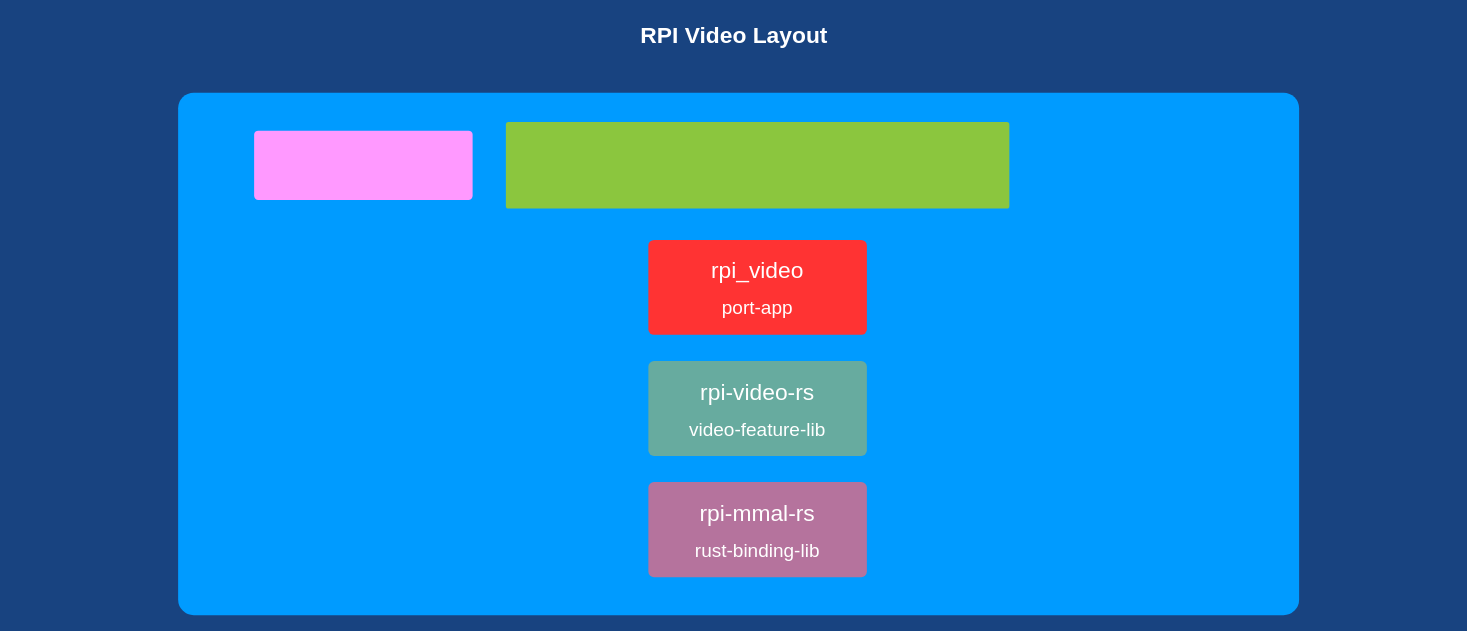
The diagram is 1467 pixels wide and 631 high, and some of its shapes have lost their labels. Each missing label, with the box of its shape:
Buildroot Image: (505, 122, 1009, 208)
Nerves Tool-chain: (254, 130, 472, 200)
